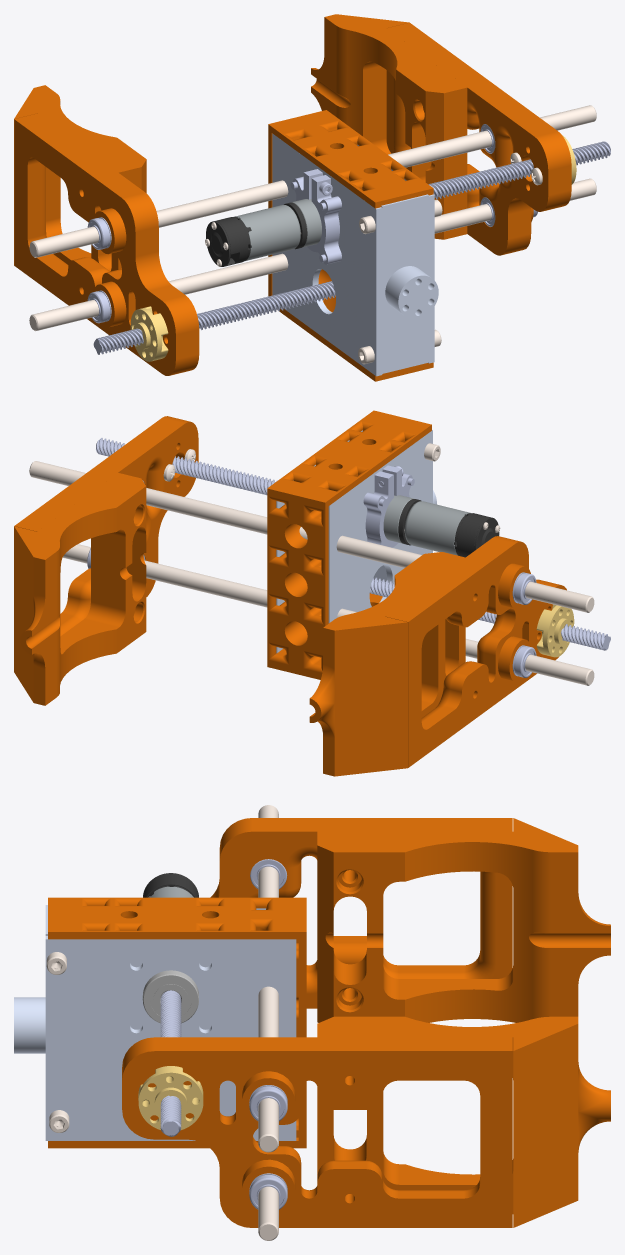
Rendered from Gripper-Subassembly.glb.
The picture shows the model from 3 angles, top to bottom: view 1: azimuth 30°, elevation 25°; view 2: azimuth 150°, elevation 25°; view 3: azimuth 270°, elevation 25°; orthographic projection. The views are drawn at different scales.
Parts seen in each view (by area): view 1: Finger v4^Gripper Subassembly-2, Pad 2-1, Finger v4^Gripper Subassembly-1, GRIP-1-7, Cover-1, Shaft Rotary^Gripper Subassembly-6, GRIP-2-1, Pad 2-2, Motor^Gripper Subassembly-1, Shaft Rotary^Gripper Subassembly-5, Lead Screw Long (2022)-2, Clamping Hub^Gripper Subassembly-3 (+5 smaller); view 2: Pad 2-1, Pad 2-2, Cover-1, Finger v4^Gripper Subassembly-2, Finger v4^Gripper Subassembly-1, GRIP-1-7, Shaft Rotary^Gripper Subassembly-6, Motor^Gripper Subassembly-1, Shaft Rotary^Gripper Subassembly-5, Clamping Hub^Gripper Subassembly-3, Lead Screw Short (2022)^Gripper Subassembly-2, Lead Screw Nut (2022)-1 (+1 smaller); view 3: Finger v4^Gripper Subassembly-1, Pad 2-2, GRIP-1-6, Pad 2-1, Finger v4^Gripper Subassembly-2, Cover-1, Shaft Rotary^Gripper Subassembly-6, Lead Screw Nut (2022)-2, Ball Bearing-2, GRIP-3-1, Lead Screw Short (2022)^Gripper Subassembly-2, Motor^Gripper Subassembly-1 (+3 smaller).
Part boxes in pixels (x1,y1,x2,y2): Finger v4^Gripper Subassembly-2: [14, 113, 199, 375]; Pad 2-1: [311, 14, 467, 239]; Finger v4^Gripper Subassembly-1: [386, 22, 571, 255]; GRIP-1-7: [272, 133, 382, 376]; Cover-1: [268, 110, 433, 381]; Shaft Rotary^Gripper Subassembly-6: [29, 105, 596, 257]; GRIP-2-1: [381, 194, 428, 373]; Pad 2-2: [14, 85, 146, 271]; Motor^Gripper Subassembly-1: [205, 199, 321, 266]; Shaft Rotary^Gripper Subassembly-5: [29, 178, 596, 331]; Lead Screw Long (2022)-2: [93, 281, 335, 354]; Clamping Hub^Gripper Subassembly-3: [293, 169, 341, 264]; Pad 2-1: [14, 473, 146, 705]; Pad 2-2: [309, 552, 465, 776]; Cover-1: [267, 410, 431, 679]; Finger v4^Gripper Subassembly-2: [385, 536, 566, 767]; Finger v4^Gripper Subassembly-1: [14, 416, 198, 636]; GRIP-1-7: [328, 430, 432, 623]; Shaft Rotary^Gripper Subassembly-6: [29, 461, 594, 612]; Motor^Gripper Subassembly-1: [383, 495, 500, 557]; Shaft Rotary^Gripper Subassembly-5: [62, 544, 594, 685]; Clamping Hub^Gripper Subassembly-3: [363, 465, 412, 547]; Lead Screw Short (2022)^Gripper Subassembly-2: [96, 438, 277, 495]; Lead Screw Nut (2022)-1: [536, 604, 574, 657]; Finger v4^Gripper Subassembly-1: [122, 1037, 512, 1227]; Pad 2-2: [317, 818, 610, 1022]; GRIP-1-6: [45, 936, 296, 1140]; Pad 2-1: [317, 1016, 610, 1227]; Finger v4^Gripper Subassembly-2: [210, 818, 512, 1008]; Cover-1: [48, 897, 306, 1148]; Shaft Rotary^Gripper Subassembly-6: [258, 805, 278, 1152]; Lead Screw Nut (2022)-2: [138, 1066, 203, 1129]; Ball Bearing-2: [142, 970, 198, 1023]; GRIP-3-1: [14, 997, 45, 1053]; Lead Screw Short (2022)^Gripper Subassembly-2: [160, 990, 181, 1136]; Motor^Gripper Subassembly-1: [143, 873, 198, 897].
Size of the model in its own units: 0.3048 by 0.0932 by 0.233.
